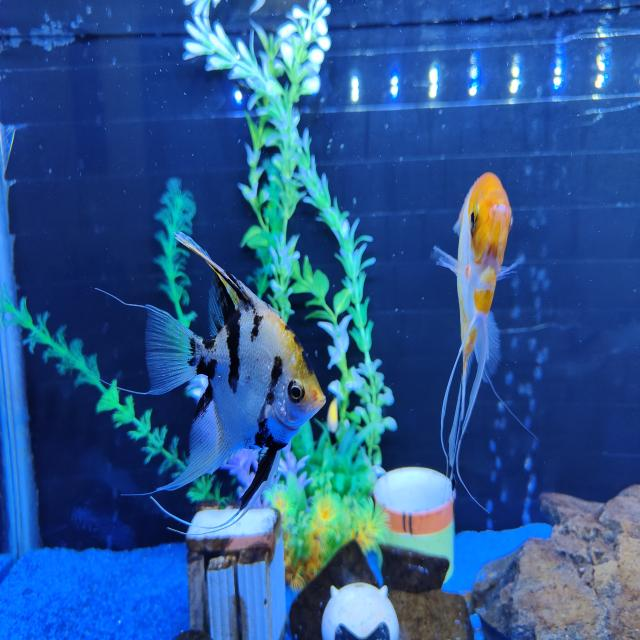Fish: (145, 233, 325, 519), (432, 173, 520, 492)
